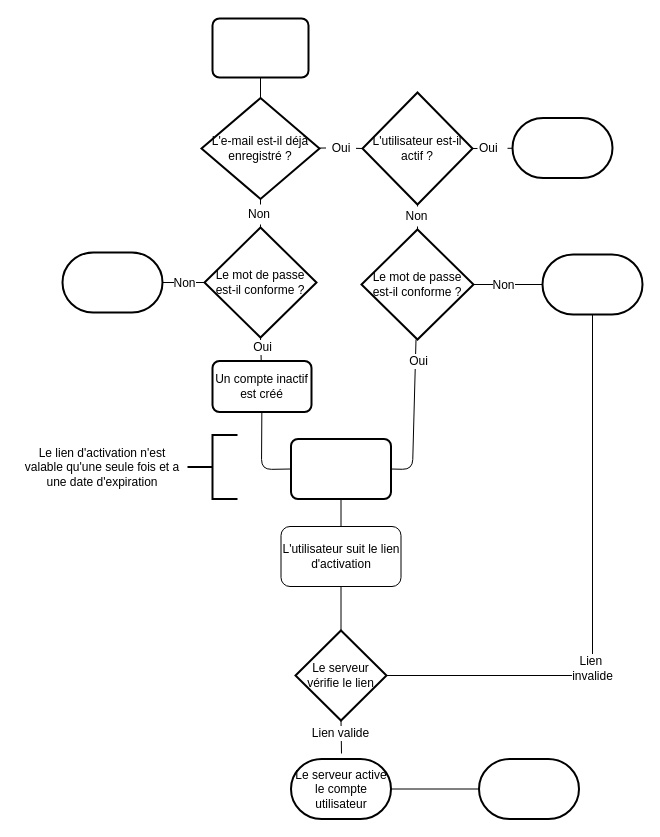
Image size: 660x837. Some labels were removed from this diagram. The shapes that lost their labels are listed below. From the top down, each one's box as (x1, y1, x2, y2) in pixels, then its label:
(211, 17, 309, 78): L'utilisateur s'enregistre sur le serveur
(511, 116, 613, 178): Signaler le piratage potentiel
(61, 251, 163, 313): Le compte n'est pas créé
(541, 253, 643, 315): Le compte reste inactif
(290, 438, 392, 500): Le serveur émet le lien d'activation
(478, 758, 580, 820): Le lien d'activation est invalidé
